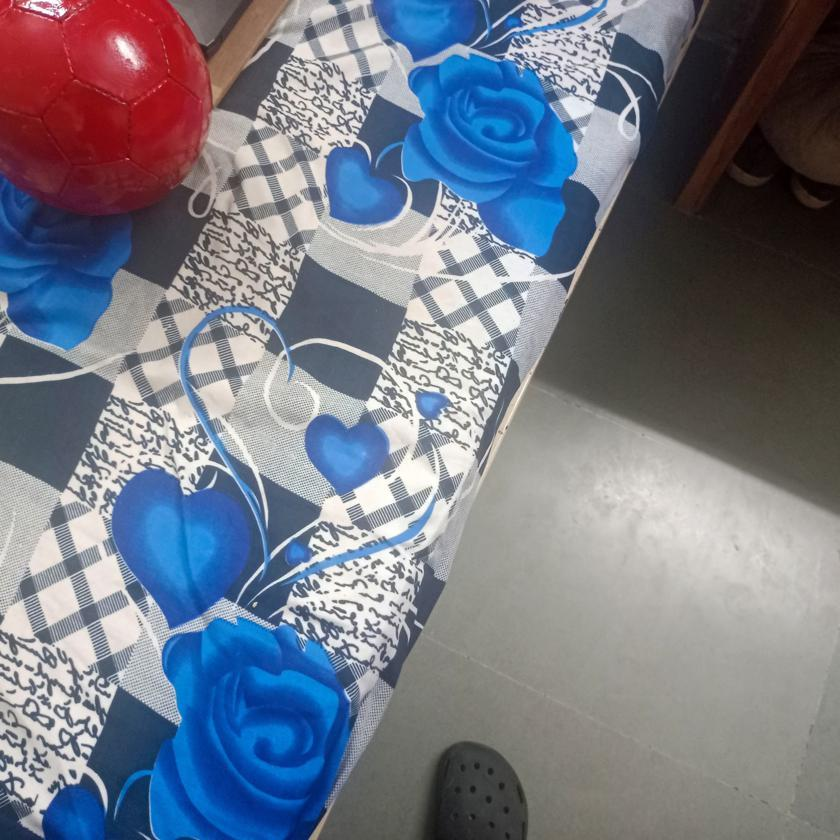Red_Ball: (0, 0, 215, 218)
